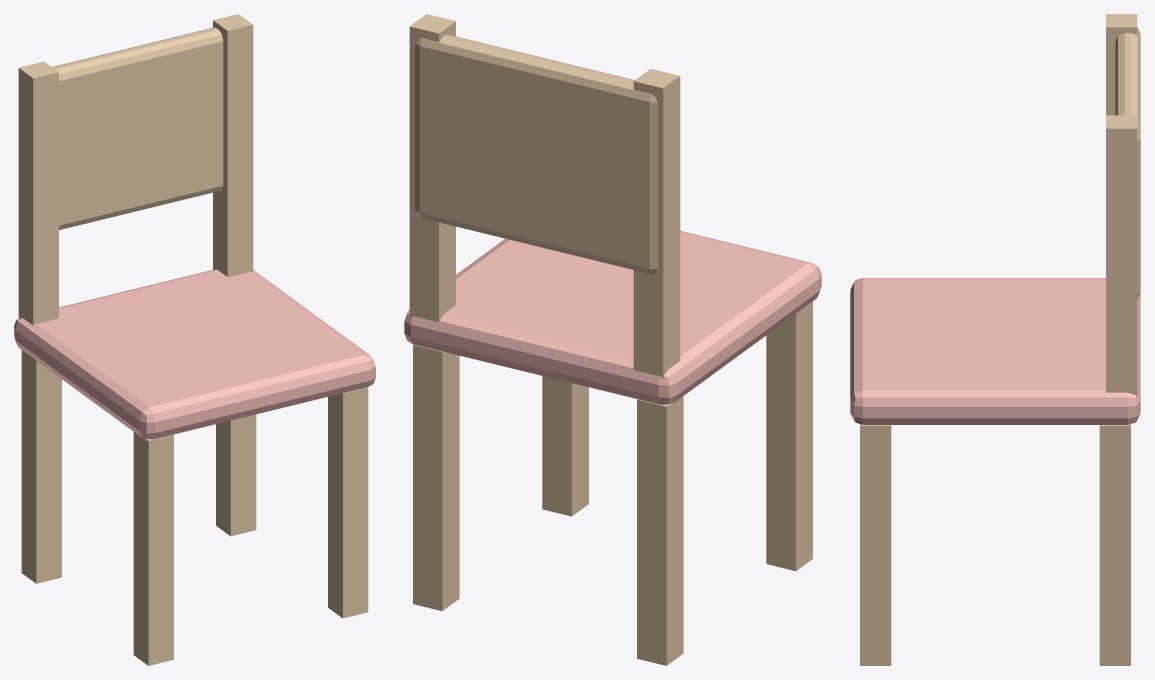
Rendered from cadeira.glb.
3 renders of one model, left to right at view 1: azimuth 30°, elevation 25°; view 2: azimuth 150°, elevation 25°; view 3: azimuth 270°, elevation 25°, orthographic. The views are drawn at different scales.
Visible parts, largest first — view 1: cadeira; view 2: cadeira; view 3: cadeira.
Part boxes in pixels (bbox=[...]): cadeira: bbox=[14, 14, 375, 665]; cadeira: bbox=[404, 14, 821, 665]; cadeira: bbox=[850, 14, 1140, 665].
Size of the model in its own units: 0.46 by 0.94 by 0.46.
